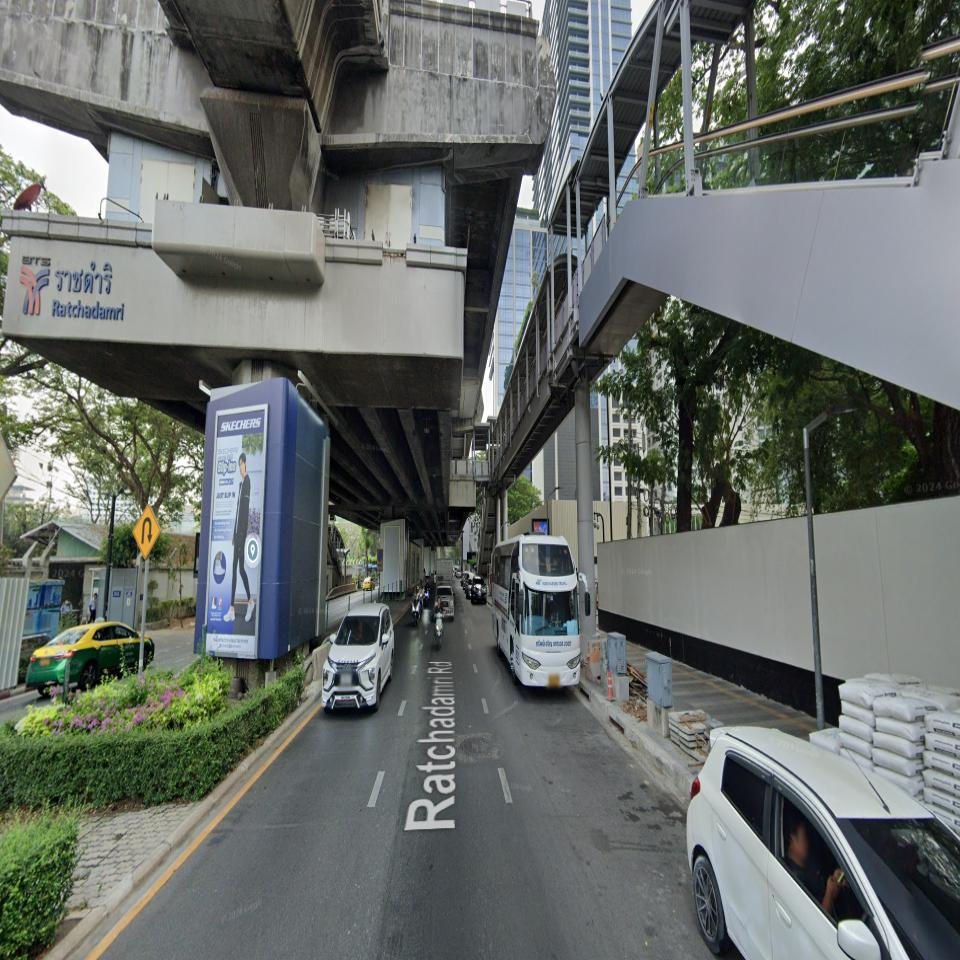signage: (20, 255, 125, 322), (51, 261, 125, 323)
